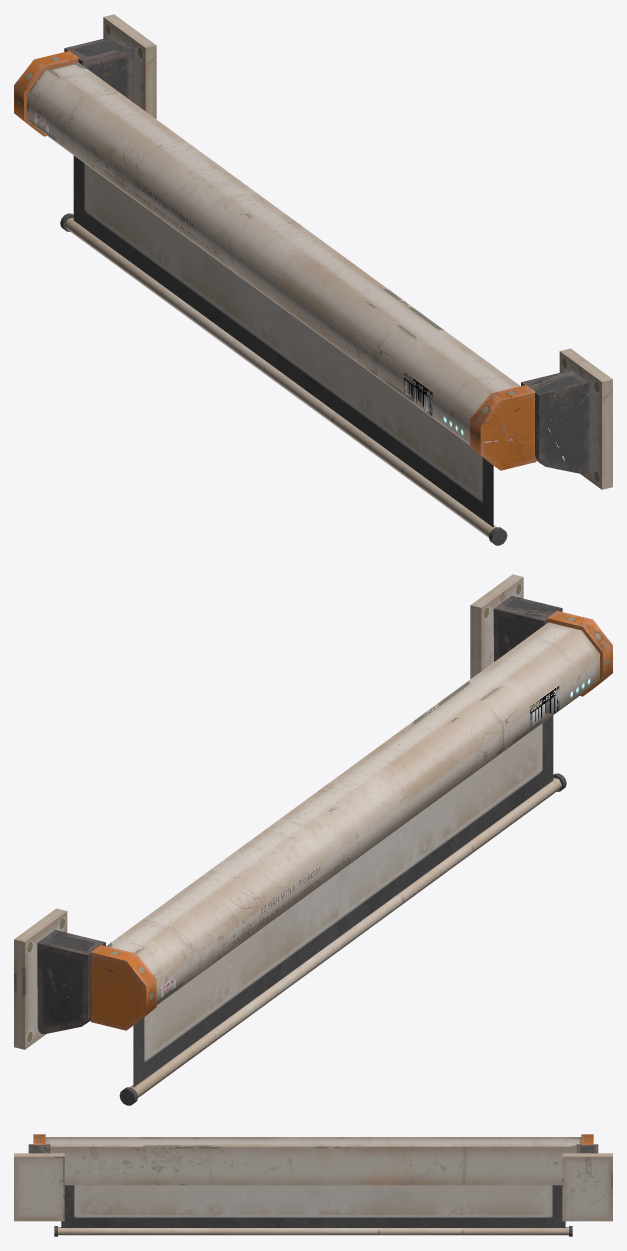
File: SM_Projector_Screen_01b.fbx
3 renders of one model, top to bottom at view 1: azimuth 30°, elevation 25°; view 2: azimuth 150°, elevation 25°; view 3: azimuth 270°, elevation 25°, orthographic. The views are drawn at different scales.
Visible parts, largest first — view 1: SM_Projector_Screen_01b_LOD0; view 2: SM_Projector_Screen_01b_LOD0; view 3: SM_Projector_Screen_01b_LOD0.
Part boxes in pixels (<box>): SM_Projector_Screen_01b_LOD0: <box>14,14,612,545</box>; SM_Projector_Screen_01b_LOD0: <box>14,574,612,1105</box>; SM_Projector_Screen_01b_LOD0: <box>14,1134,612,1236</box>.
Bounding box in the file's own units: 28.78 × 214 × 40.53.
Materials: 1 (1 with a texture image).
